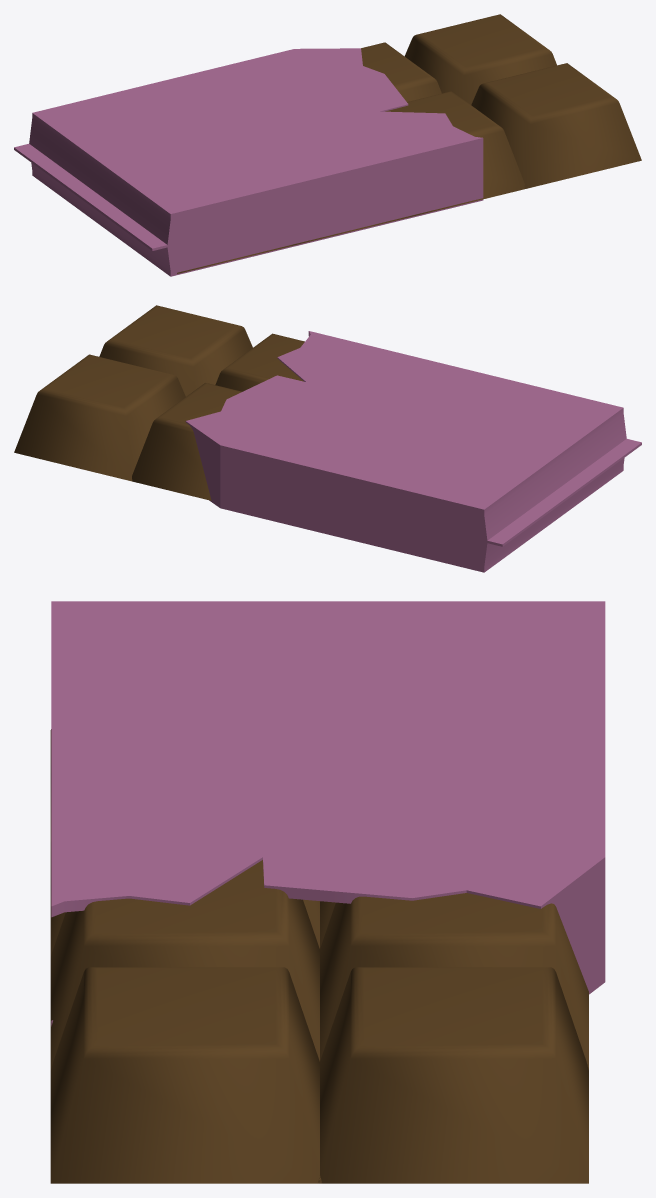
The model's file is chocolate.glb.
3 renders of one model, top to bottom at view 1: azimuth 30°, elevation 25°; view 2: azimuth 150°, elevation 25°; view 3: azimuth 270°, elevation 25°, orthographic. The views are drawn at different scales.
Visible parts, largest first — view 1: Plane001, Box008; view 2: Plane001, Box008; view 3: Plane001, Box008.
Boxes of the visible parts, x1,y1,x2,y2 form: Plane001: (14,48,483,276); Box008: (177,14,641,273); Plane001: (185,331,641,572); Box008: (14,305,304,500); Plane001: (51,601,605,1026); Box008: (50,729,588,1183).
Size of the model in its own units: 0.1057 by 0.0129 by 0.0519.
